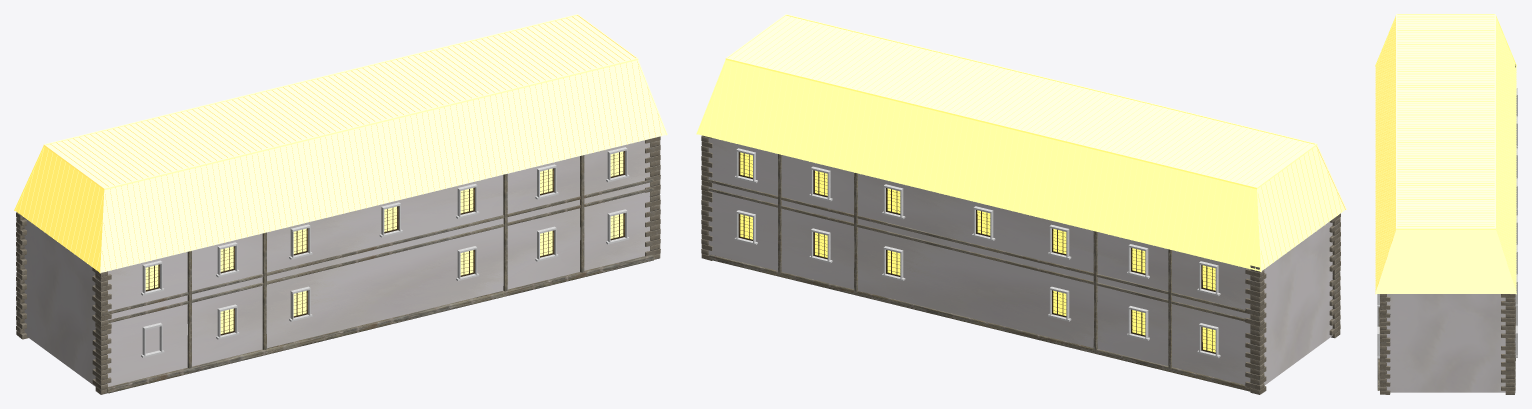
The model's file is Test Building 03 (Simple).fbx.
3 renders of one model, left to right at view 1: azimuth 30°, elevation 25°; view 2: azimuth 150°, elevation 25°; view 3: azimuth 270°, elevation 25°, orthographic. The views are drawn at different scales.
Visible parts, largest first — view 1: TinRoof__2_, Cube__6_, Cube__9_, SM_WoodenBar_1, SM_WoodenBar_1_1, SM_WoodenBar_1_6, SM_CastleLargeHouseAssambled_Cube_085_LOD0, SM_CastleLargeHouseAssambled_Cube_085_LOD1_1, SM_CastleLargeHouseAssambled_Cube_085_LOD1_2, SM_WoodenBar_1_3, SM_WoodenBar_1_5, SM_WoodenBar_1_4 (+1 smaller); view 2: TinRoof__2_, Cube__7_, Cube__9_, SM_WoodenBar_1_7, SM_WoodenBar_1_8, SM_WoodenBar_1_13, SM_CastleLargeHouseAssambled_Cube_085_LOD1_4, SM_CastleLargeHouseAssambled_Cube_085_LOD1_5, SM_CastleLargeHouseAssambled_Cube_085_LOD0, SM_CastleLargeHouseAssambled_Cube_085_LOD0_4; view 3: TinRoof__2_, Cube__8_, SM_CastleLargeHouseAssambled_Cube_085_LOD1_6, SM_CastleLargeHouseAssambled_Cube_085_LOD1_7, SM_CastleLargeHouseAssambled_Cube_085_LOD1_2, SM_CastleLargeHouseAssambled_Cube_085_LOD0_6, SM_CastleLargeHouseAssambled_Cube_085_LOD1_3, SM_CastleLargeHouseAssambled_Cube_085_LOD0_7, SM_CastleLargeHouseAssambled_Cube_085_LOD0_2, SM_CastleLargeHouseAssambled_Cube_085_LOD0_3.
Part boxes in pixels (x1,y1,x2,y2): TinRoof__2_: (14, 14, 667, 273); Cube__6_: (107, 140, 649, 386); Cube__9_: (24, 218, 95, 386); SM_WoodenBar_1: (107, 255, 654, 393); SM_WoodenBar_1_1: (108, 179, 653, 314); SM_WoodenBar_1_6: (108, 188, 653, 323); SM_CastleLargeHouseAssambled_Cube_085_LOD0: (92, 327, 111, 394); SM_CastleLargeHouseAssambled_Cube_085_LOD1_1: (92, 267, 111, 330); SM_CastleLargeHouseAssambled_Cube_085_LOD1_2: (645, 194, 660, 257); SM_WoodenBar_1_3: (580, 155, 584, 272); SM_WoodenBar_1_5: (262, 232, 266, 350); SM_WoodenBar_1_4: (503, 174, 507, 291); TinRoof__2_: (696, 14, 1346, 271); Cube__7_: (704, 138, 1250, 384); Cube__9_: (1263, 222, 1332, 385); SM_WoodenBar_1_7: (709, 254, 1250, 391); SM_WoodenBar_1_8: (707, 179, 1248, 313); SM_WoodenBar_1_13: (707, 188, 1245, 321); SM_CastleLargeHouseAssambled_Cube_085_LOD1_4: (1245, 327, 1266, 394); SM_CastleLargeHouseAssambled_Cube_085_LOD1_5: (1245, 265, 1266, 330); SM_CastleLargeHouseAssambled_Cube_085_LOD0: (1329, 271, 1340, 338); SM_CastleLargeHouseAssambled_Cube_085_LOD0_4: (1245, 330, 1264, 394); TinRoof__2_: (1375, 14, 1516, 294); Cube__8_: (1387, 294, 1505, 392); SM_CastleLargeHouseAssambled_Cube_085_LOD1_6: (1501, 341, 1515, 394); SM_CastleLargeHouseAssambled_Cube_085_LOD1_7: (1501, 294, 1515, 341); SM_CastleLargeHouseAssambled_Cube_085_LOD1_2: (1380, 342, 1390, 394); SM_CastleLargeHouseAssambled_Cube_085_LOD0_6: (1501, 342, 1515, 394); SM_CastleLargeHouseAssambled_Cube_085_LOD1_3: (1380, 294, 1390, 341); SM_CastleLargeHouseAssambled_Cube_085_LOD0_7: (1501, 294, 1515, 342); SM_CastleLargeHouseAssambled_Cube_085_LOD0_2: (1380, 342, 1390, 393); SM_CastleLargeHouseAssambled_Cube_085_LOD0_3: (1380, 294, 1390, 341).
Size of what is drawn, in the model's own units: 3064 by 1011 by 810.
